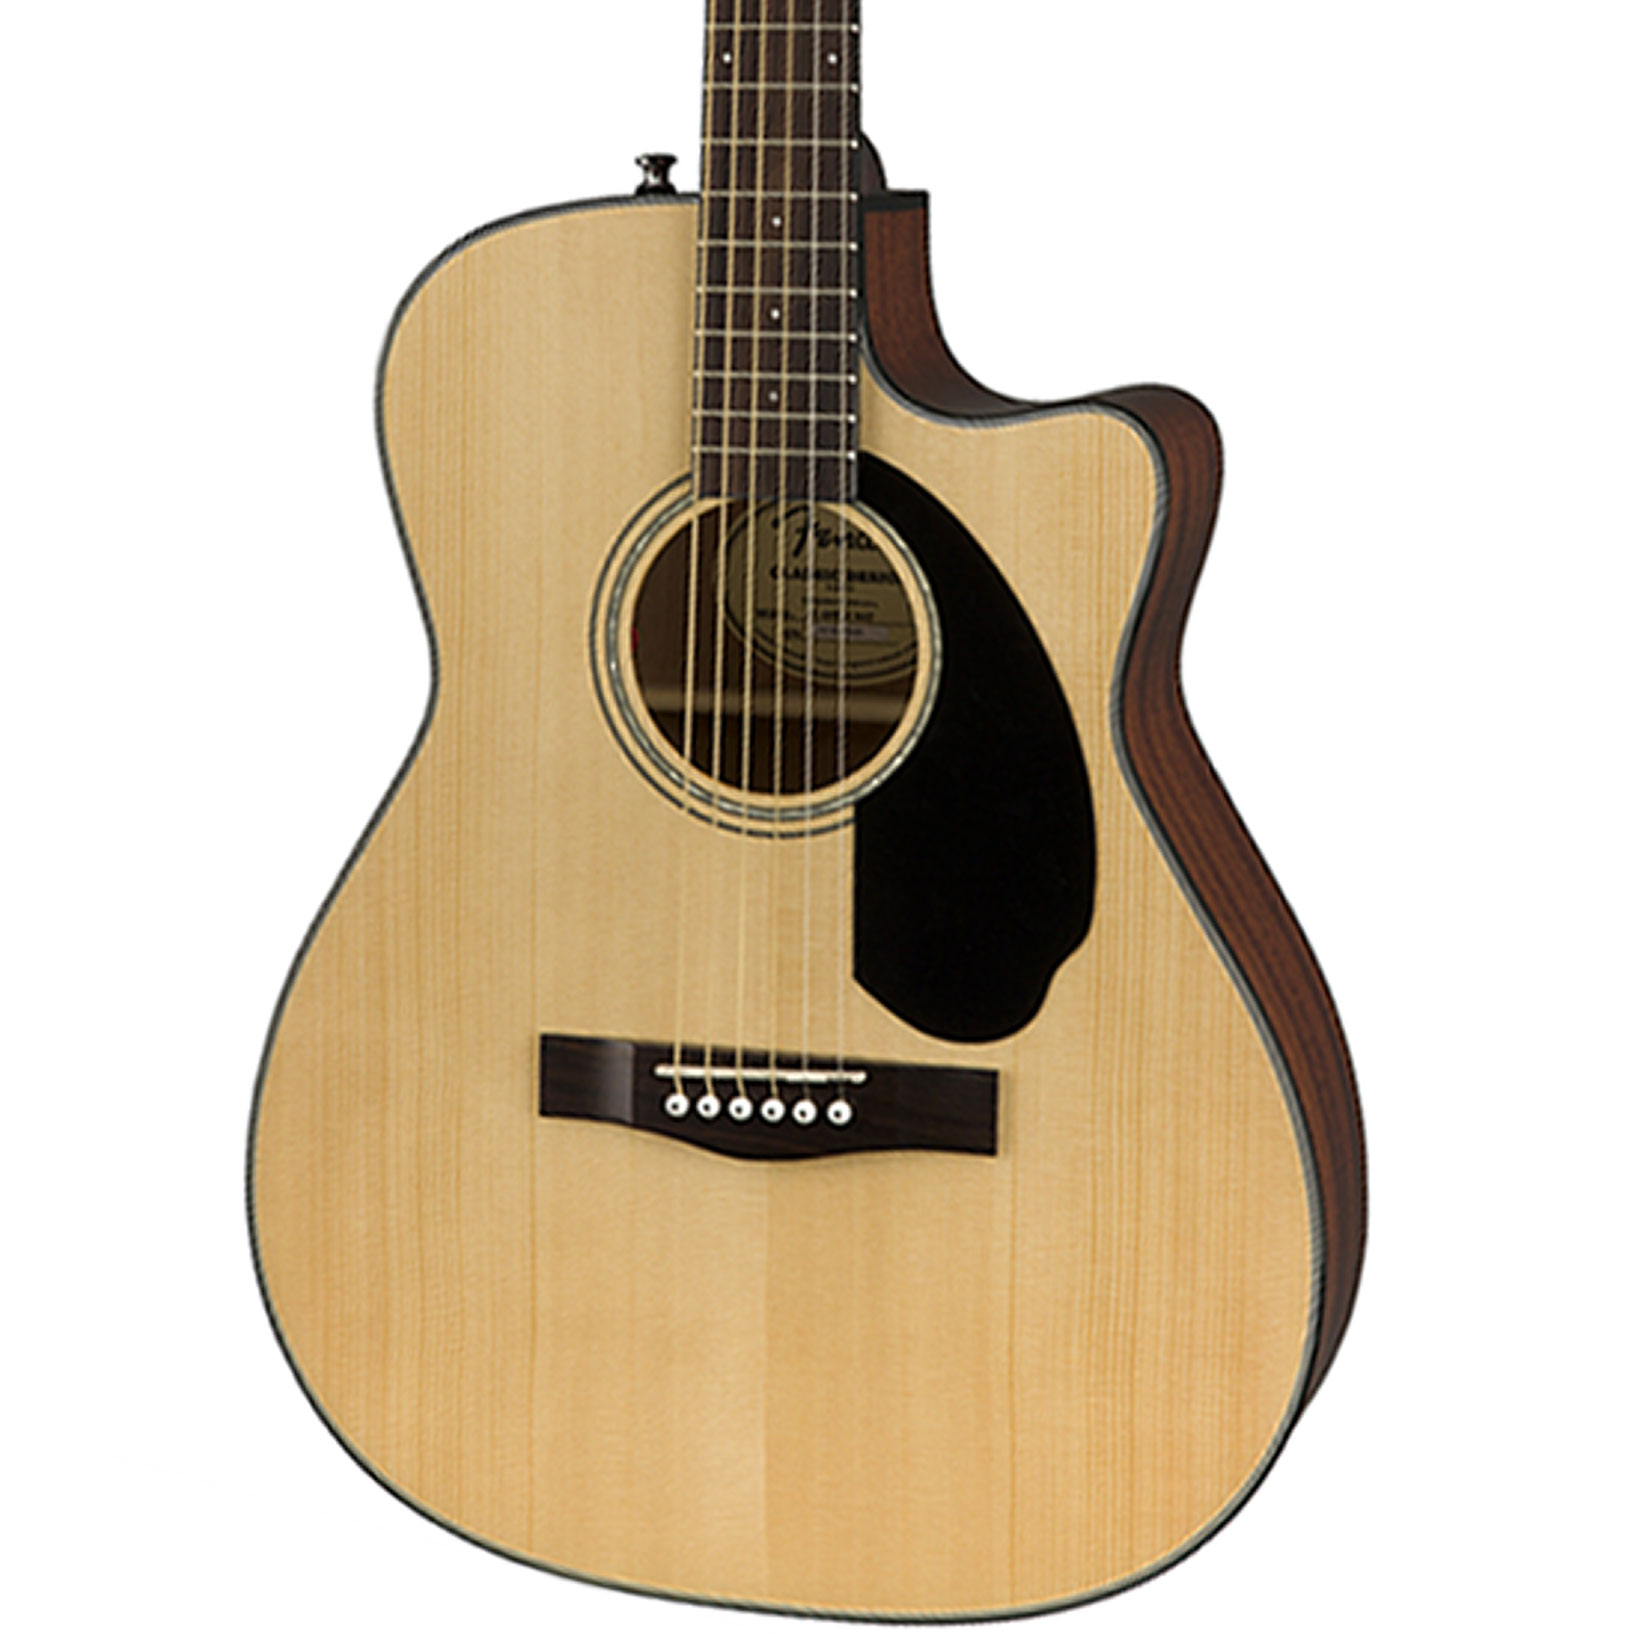guitar: (230, 2, 1390, 1633)
